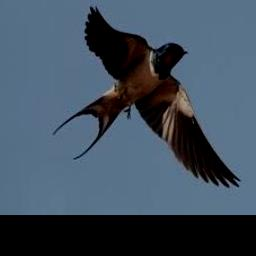Swallow: (54, 5, 241, 187)
